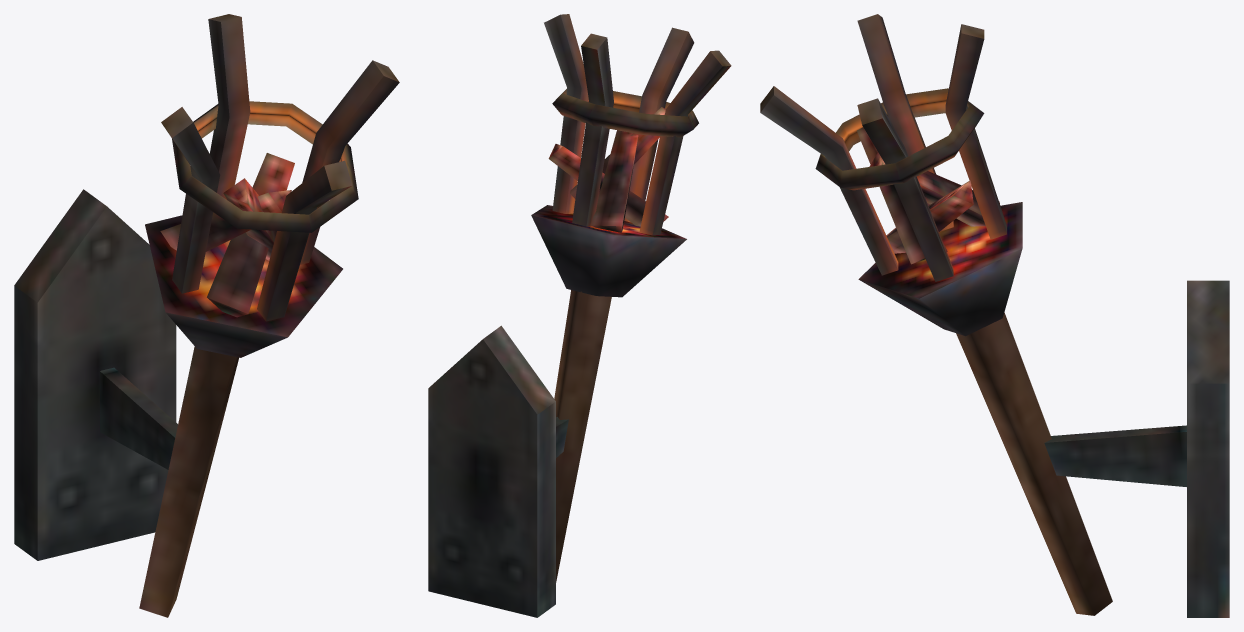
The model's file is Lamp4.fbx.
The picture shows the model from 3 angles, left to right: view 1: azimuth 30°, elevation 25°; view 2: azimuth 150°, elevation 25°; view 3: azimuth 270°, elevation 25°; orthographic projection. The views are drawn at different scales.
Visible parts, largest first — view 1: Lamp4; view 2: Lamp4; view 3: Lamp4.
Part boxes in pixels (bbox=[...]): Lamp4: bbox=[14, 14, 399, 617]; Lamp4: bbox=[428, 14, 731, 617]; Lamp4: bbox=[760, 14, 1229, 617].
Size of the model in its own units: 2.69 by 7.28 by 5.29.
